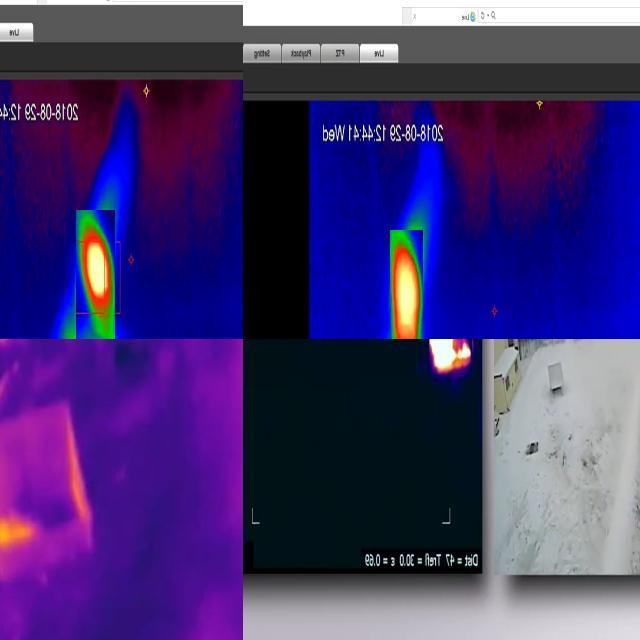fire: (76, 210, 115, 340), (390, 230, 423, 340), (429, 340, 472, 375)
